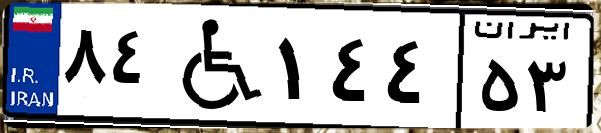1: (270, 28, 330, 110)
3: (525, 38, 570, 115)
4: (385, 28, 445, 110), (330, 28, 385, 110), (110, 28, 158, 98)
5: (475, 38, 525, 113)
8: (57, 26, 110, 100)
ژ (معلولین و جانبازان): (158, 12, 270, 120)
